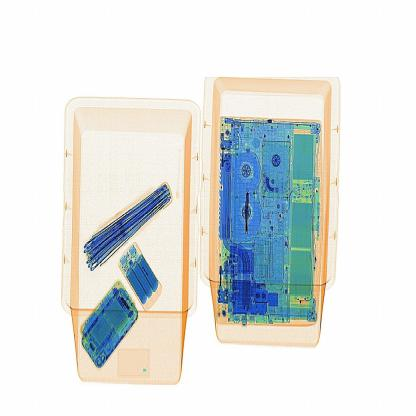knife: (237, 186, 262, 237)
